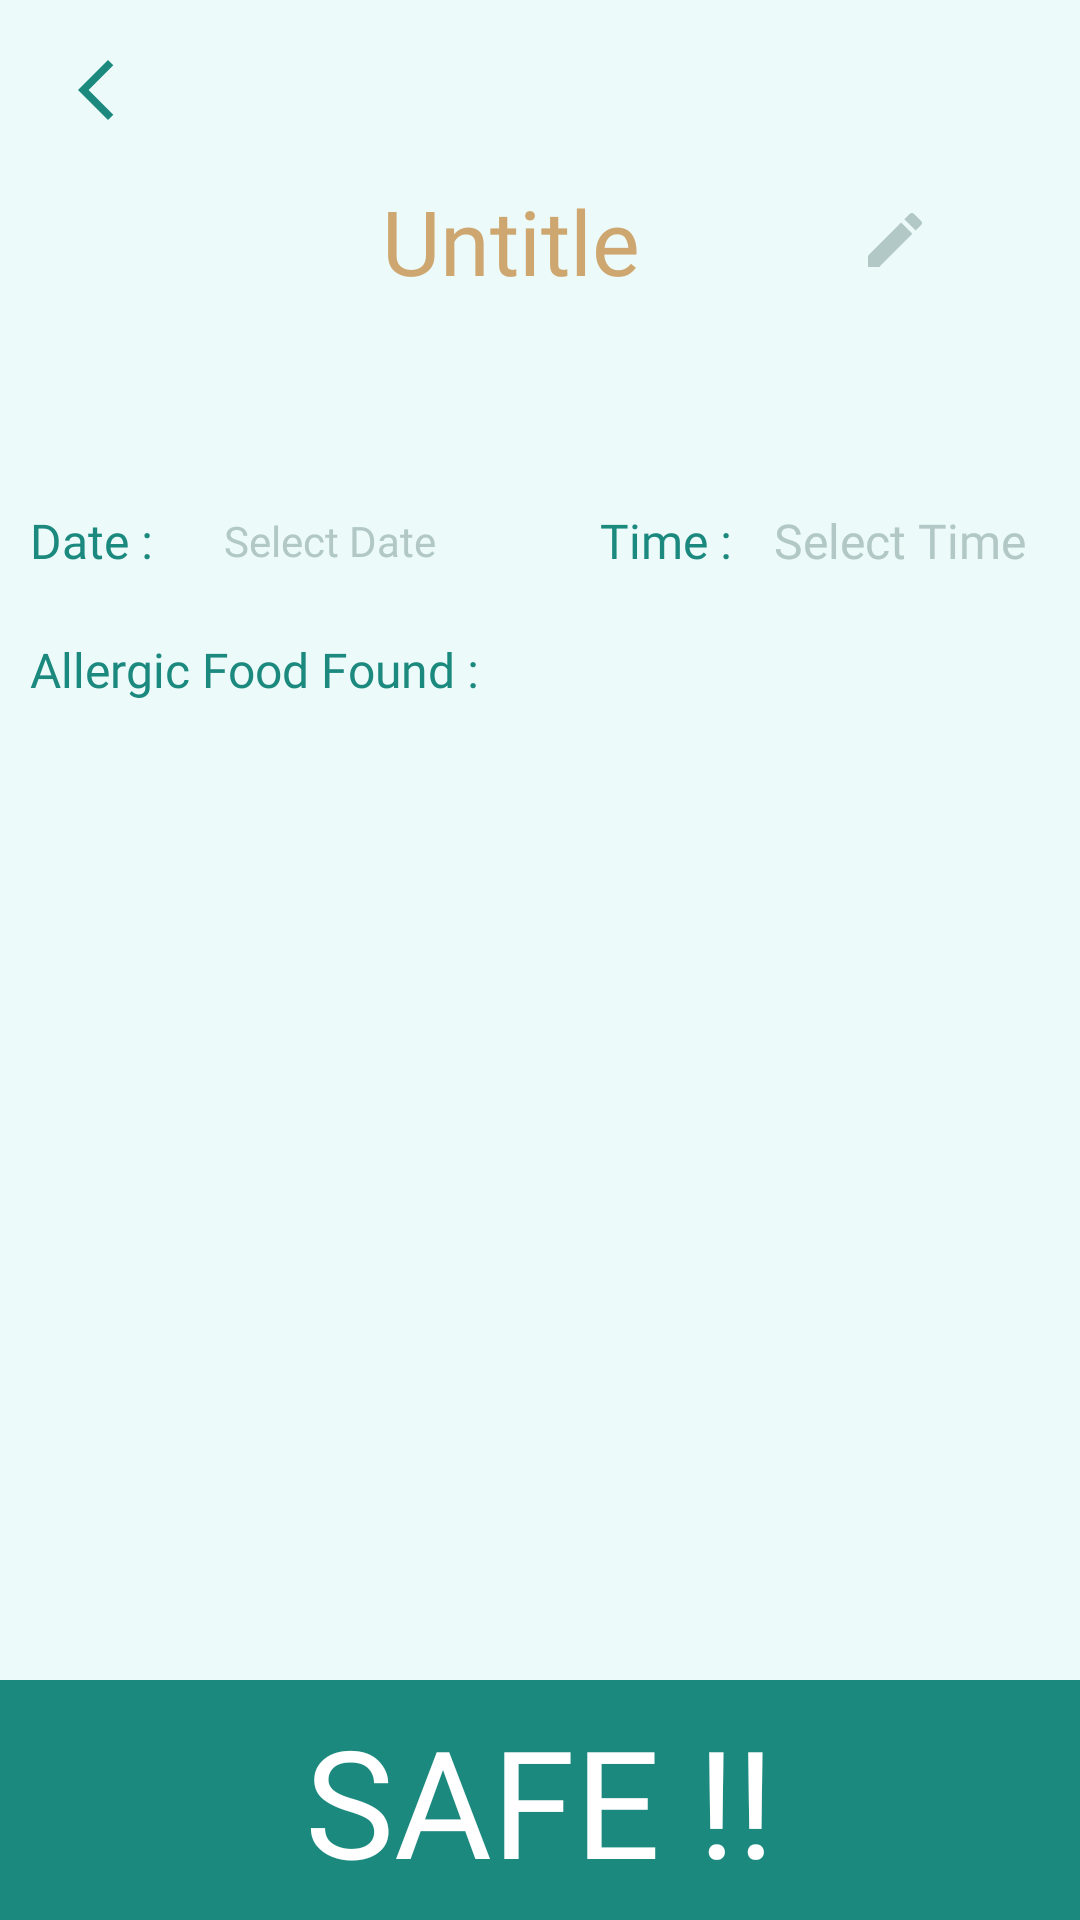

Where icons sit on this 1080px×1920px app screen, as (x1, y1, x2, y2):
arrow: (78, 60, 113, 120)
edit: (868, 213, 922, 267)
